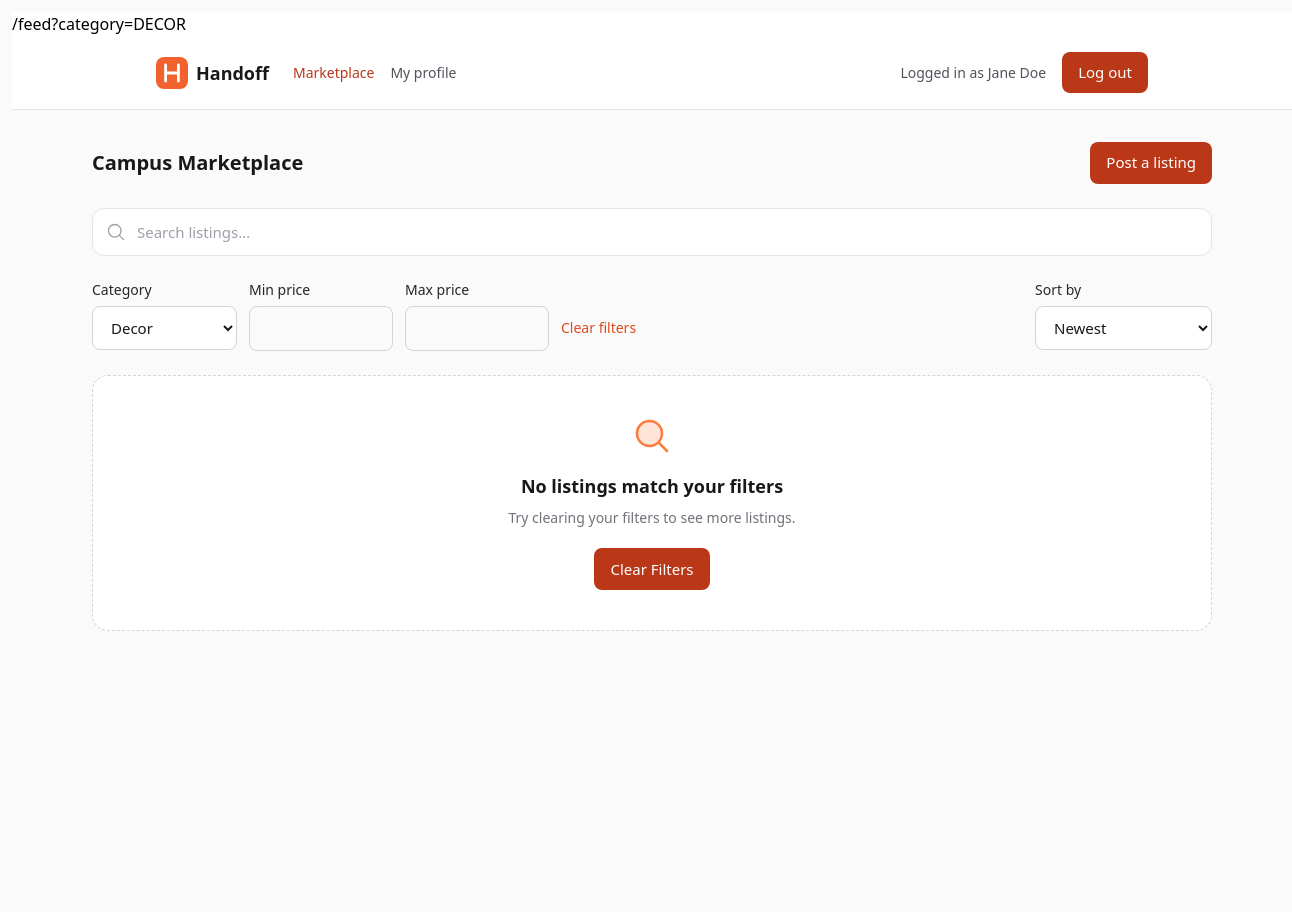
Test: FeedPage › keeps other query params when searching
Type "lamp" into the search field labelled "Search listings" at x=652, y=232, box [92,208,1212,256]
Then press Enter
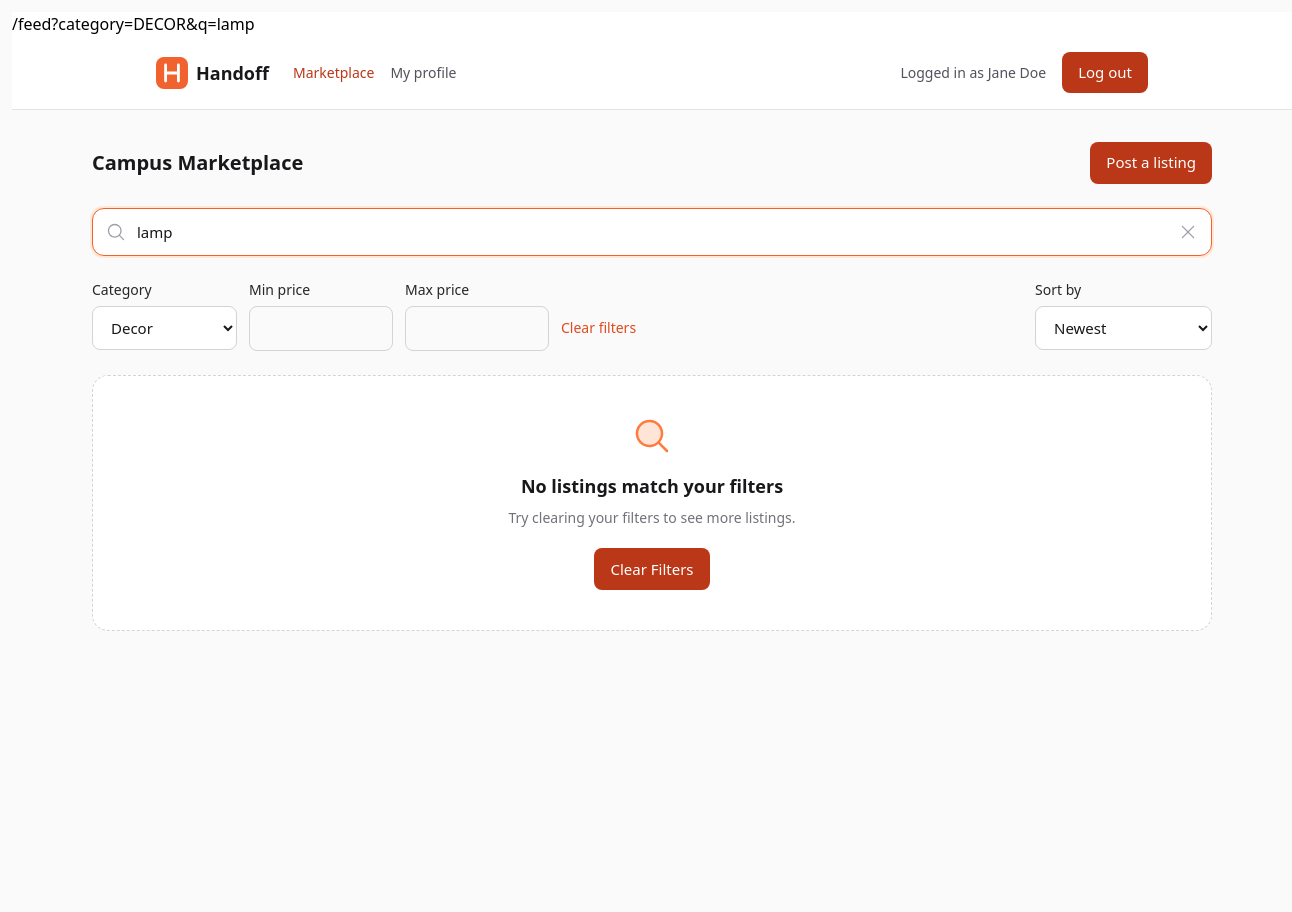
Now the text with test id "location" reads "/feed?category=DECOR&q=lamp", box [12,13,255,35]
